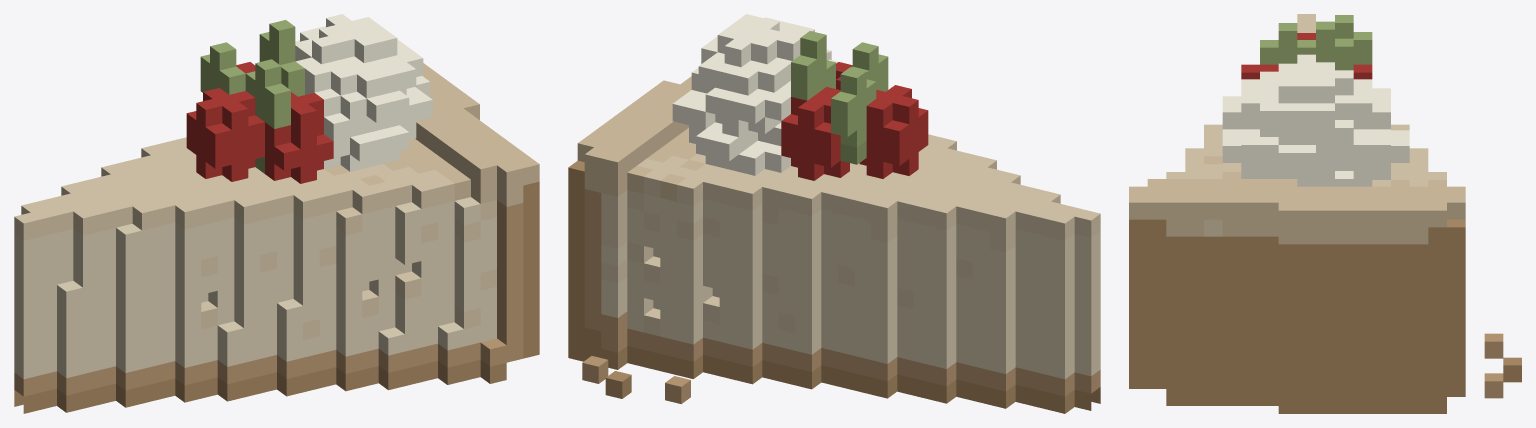
Rendered from cheesecake_v1.glb.
3 renders of one model, left to right at view 1: azimuth 30°, elevation 25°; view 2: azimuth 150°, elevation 25°; view 3: azimuth 270°, elevation 25°, orthographic. The views are drawn at different scales.
Parts seen in each view (by area): view 1: VoxTransform; view 2: VoxTransform; view 3: VoxTransform.
Boxes of the visible parts, box(x1,y1,x2,y2) form: VoxTransform: box(14, 14, 539, 413); VoxTransform: box(568, 14, 1100, 413); VoxTransform: box(1129, 14, 1521, 413).
Size of the model in its own units: 27 by 18 by 21.
